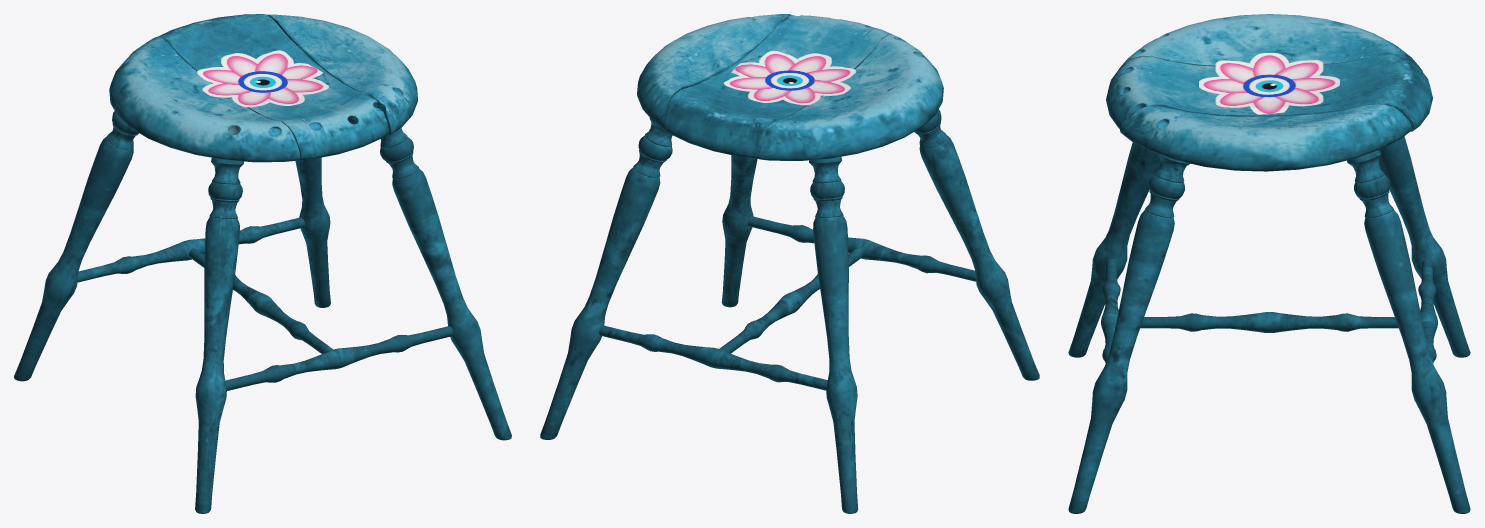
The model's file is nyb_mail_stool.glb.
3 renders of one model, left to right at view 1: azimuth 30°, elevation 25°; view 2: azimuth 150°, elevation 25°; view 3: azimuth 270°, elevation 25°, orthographic. The views are drawn at different scales.
Visible parts, largest first — view 1: wooden_stool_01, stk_eyeflower_die.png; view 2: wooden_stool_01, stk_eyeflower_die.png; view 3: wooden_stool_01, stk_eyeflower_die.png.
Boxes of the visible parts, x1,y1,x2,y2 form: wooden_stool_01: (14, 14, 511, 513); stk_eyeflower_die.png: (197, 50, 328, 107); wooden_stool_01: (540, 14, 1039, 513); stk_eyeflower_die.png: (723, 51, 856, 105); wooden_stool_01: (1068, 14, 1470, 513); stk_eyeflower_die.png: (1199, 53, 1339, 114).
Bounding box in the file's own units: 0.4254 × 0.4373 × 0.4424.
2 materials, 2 textured.
